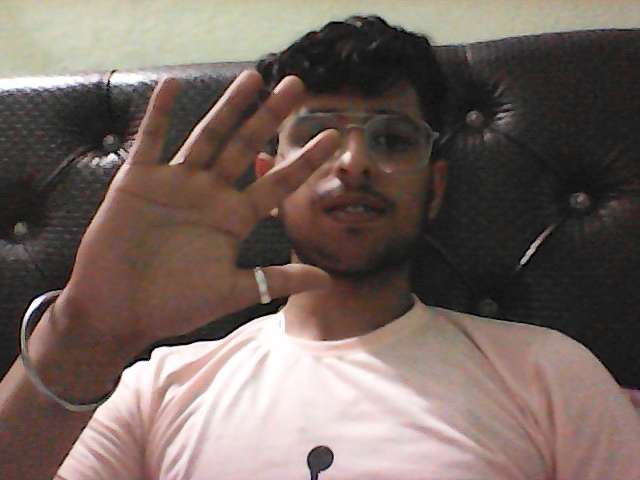hello: (58, 52, 354, 364)
